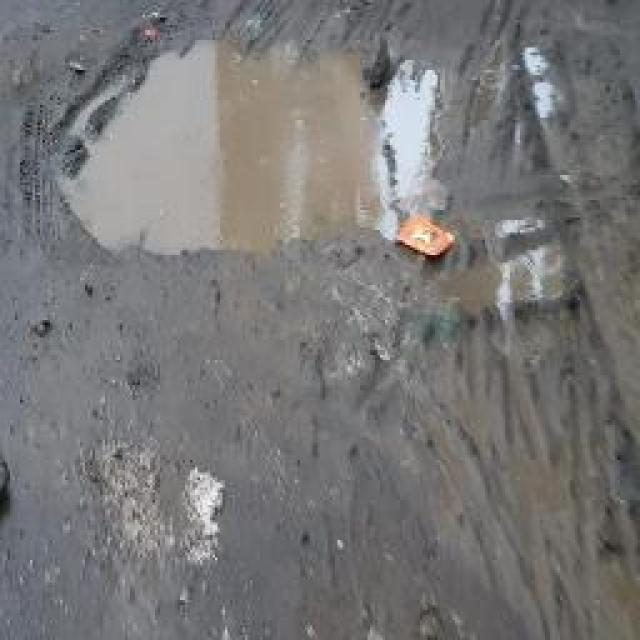puddle: (78, 42, 428, 256)
